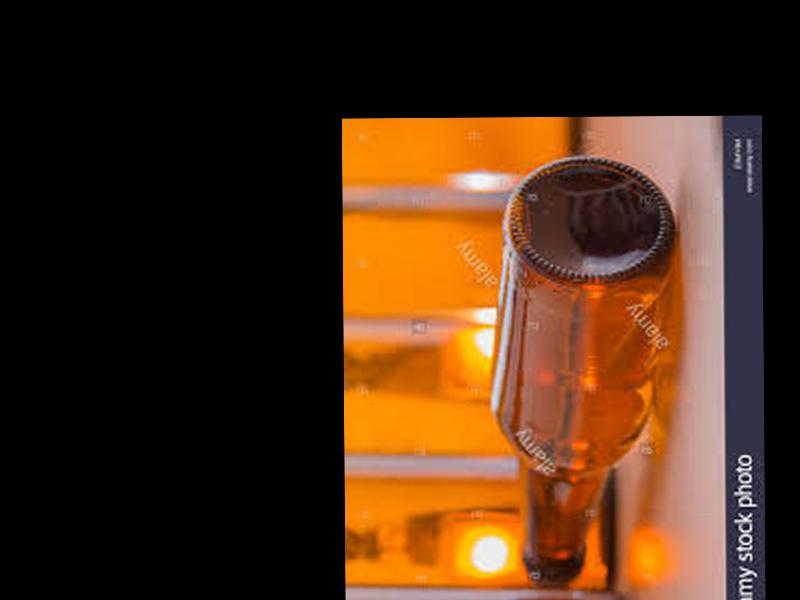Beer: (486, 154, 686, 580)
